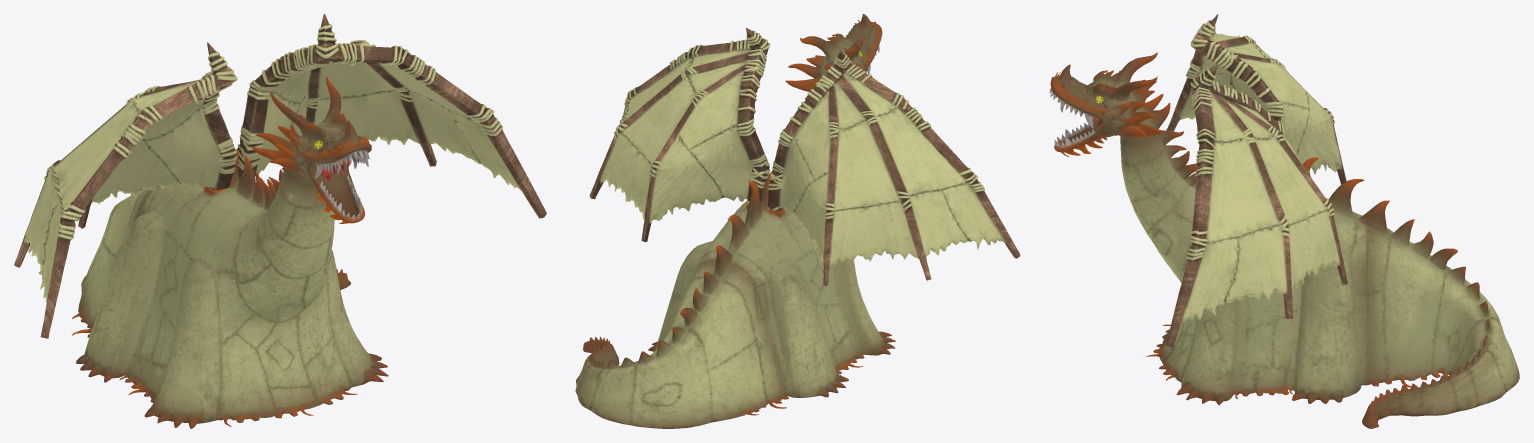
Rendered from MZ4250 - Kobolds in a Fake Dragon - Mouth Open.glb.
The picture shows the model from 3 angles, left to right: view 1: azimuth 30°, elevation 25°; view 2: azimuth 150°, elevation 25°; view 3: azimuth 270°, elevation 25°; orthographic projection. The views are drawn at different scales.
Visible parts, largest first — view 1: wings.002; view 2: wings.002; view 3: wings.002.
Part boxes in pixels (x1,y1,x2,y2): wings.002: (14,14,546,428); wings.002: (575,14,1020,428); wings.002: (1049,14,1519,428).
Bounding box in the file's own units: 7.07 × 4.83 × 6.5.
Materials: 2 (2 with a texture image).
